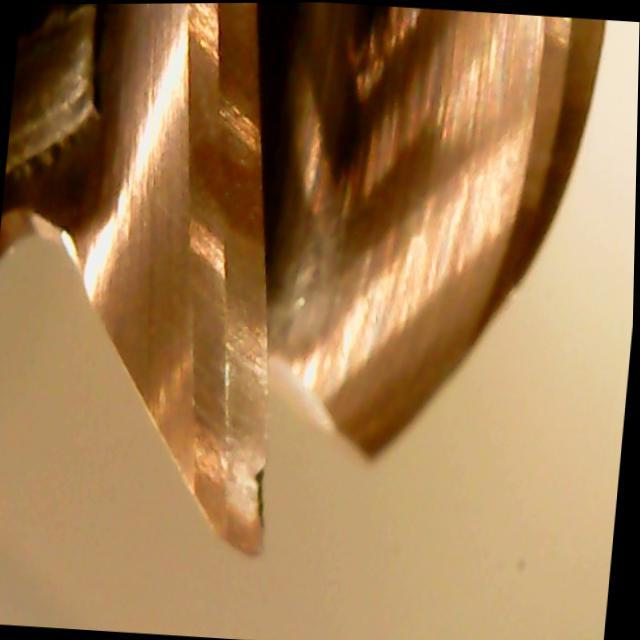Tool-wear-class-1: (176, 321, 309, 562)
